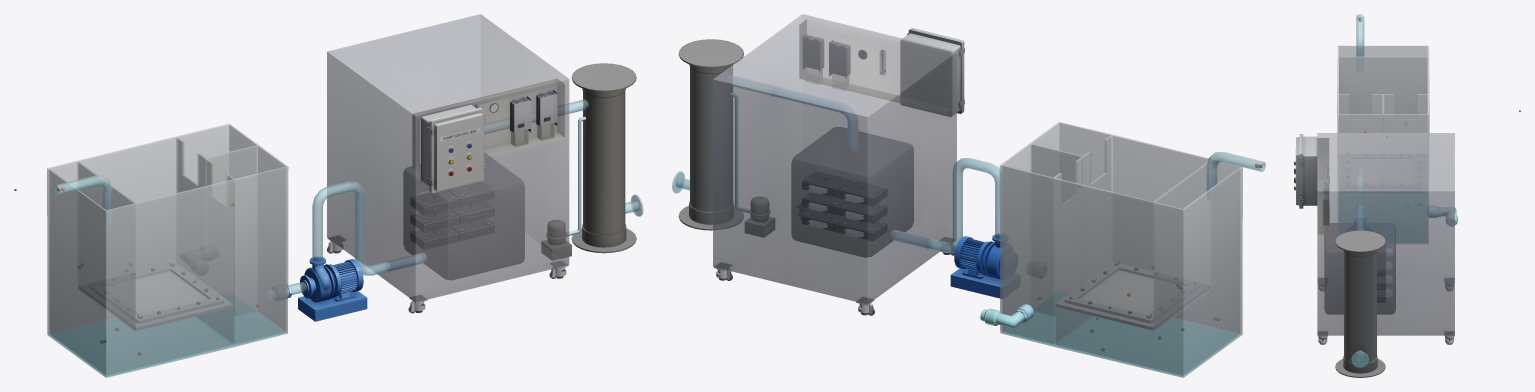
3 renders of one model, left to right at view 1: azimuth 30°, elevation 25°; view 2: azimuth 150°, elevation 25°; view 3: azimuth 270°, elevation 25°, orthographic. The views are drawn at different scales.
Parts seen in each view (by area): view 1: transparent_mesh, Strainer, water_fill_01, CtrllBox, Lauter_filter, Pump, SMPS, PUMP_floor, water_fill_02, Pump_small, Electrolyzer_main006, FootMaster (+6 smaller); view 2: transparent_mesh, Strainer, water_fill_01, CtrllBox, Lauter_filter, Pump, SMPS, water_fill_02, PUMP_floor, Pump_small, Electrolyzer_main006, Lauter_pump (+6 smaller); view 3: transparent_mesh, Strainer, CtrllBox, FootMaster, Lauter_pump, SMPS, Electrolyzer_main005.
Boxes of the visible parts, x1,y1,x2,y2 form: transparent_mesh: [47, 14, 643, 377]; Strainer: [571, 63, 636, 253]; water_fill_01: [50, 317, 232, 376]; CtrllBox: [421, 104, 484, 193]; Lauter_filter: [79, 263, 232, 330]; Pump: [300, 257, 363, 302]; SMPS: [510, 90, 557, 132]; PUMP_floor: [298, 291, 367, 321]; water_fill_02: [195, 311, 285, 345]; Pump_small: [541, 220, 571, 260]; Electrolyzer_main006: [410, 190, 458, 214]; FootMaster: [327, 235, 568, 313]; transparent_mesh: [672, 14, 1265, 377]; Strainer: [678, 39, 743, 230]; water_fill_01: [1056, 317, 1239, 376]; CtrllBox: [900, 28, 964, 116]; Lauter_filter: [1056, 262, 1209, 330]; Pump: [954, 234, 1002, 279]; SMPS: [802, 34, 850, 77]; water_fill_02: [1003, 311, 1093, 345]; PUMP_floor: [950, 268, 1002, 298]; Pump_small: [745, 196, 774, 237]; Electrolyzer_main006: [838, 180, 887, 205]; Lauter_pump: [980, 304, 1033, 328]; transparent_mesh: [1317, 14, 1454, 367]; Strainer: [1335, 230, 1385, 377]; CtrllBox: [1296, 134, 1317, 208]; FootMaster: [1317, 278, 1454, 344]; Lauter_pump: [1428, 206, 1457, 226]; SMPS: [1323, 184, 1328, 224]; Electrolyzer_main005: [1377, 257, 1392, 275].
Size of the model in its own units: 10.1 by 3.34 by 4.39.
5 materials, 2 textured.
